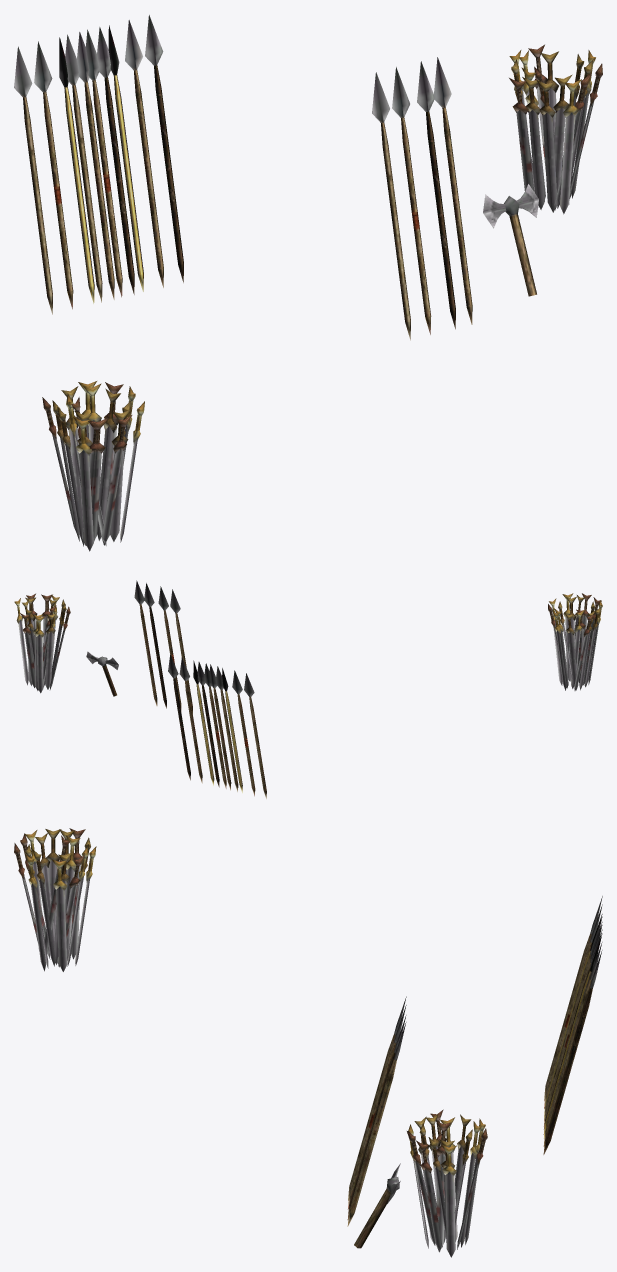
The model's file is celt_barracks_weapons.dae.
3 renders of one model, top to bottom at view 1: azimuth 30°, elevation 25°; view 2: azimuth 150°, elevation 25°; view 3: azimuth 270°, elevation 25°, orthographic. The views are drawn at different scales.
Parts seen in each view (by area): view 1: axe006; view 2: axe006; view 3: axe006.
Part boxes in pixels (box(x1,y1,x2,y2)): axe006: box(14, 15, 602, 551); axe006: box(14, 580, 602, 798); axe006: box(14, 828, 602, 1257).
Bounding box in the file's own units: 12.74 × 3.86 × 9.95.
